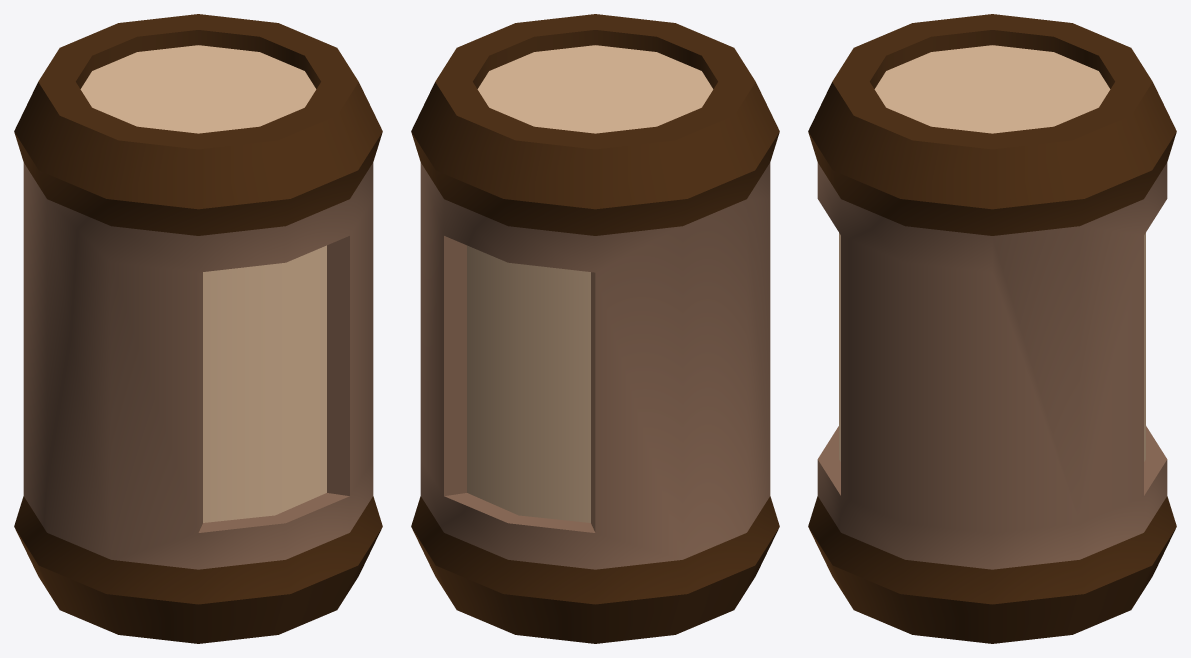
Rendered from quaternius-ultimate-space-pickup-jar-transformed.glb.
3 views of the same model, side by side, from view 1: azimuth 30°, elevation 25°; view 2: azimuth 150°, elevation 25°; view 3: azimuth 270°, elevation 25° (orthographic).
Parts seen in each view (by area): view 1: Pickup_Jar; view 2: Pickup_Jar; view 3: Pickup_Jar.
Boxes of the visible parts, x1=… form: Pickup_Jar: x1=14, y1=14, x2=382, y2=643; Pickup_Jar: x1=411, y1=14, x2=779, y2=643; Pickup_Jar: x1=808, y1=14, x2=1176, y2=643.
Bounding box in the file's own units: 0.6919 × 1.02 × 0.6919.
1 material, 1 textured.
